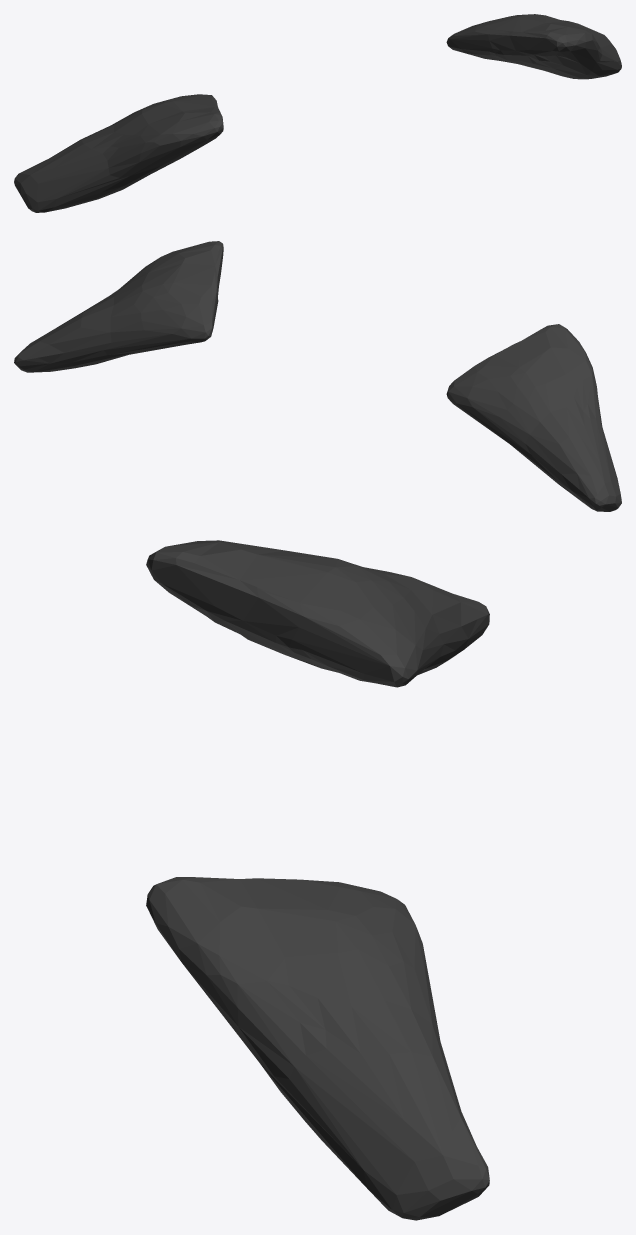
Rendered from m_gluteus_profundus.glb.
The picture shows the model from 3 angles, top to bottom: view 1: azimuth 30°, elevation 25°; view 2: azimuth 150°, elevation 25°; view 3: azimuth 270°, elevation 25°; orthographic projection. The views are drawn at different scales.
Parts seen in each view (by area): view 1: m_gluteus_profundus; view 2: m_gluteus_profundus; view 3: m_gluteus_profundus.
Boxes of the visible parts, bbox=[...] form: m_gluteus_profundus: bbox=[14, 14, 621, 212]; m_gluteus_profundus: bbox=[14, 241, 621, 511]; m_gluteus_profundus: bbox=[146, 540, 489, 1220].
Size of the model in its own units: 0.00751 by 0.00133 by 0.00188.
Materials: 1 (1 with a texture image).
